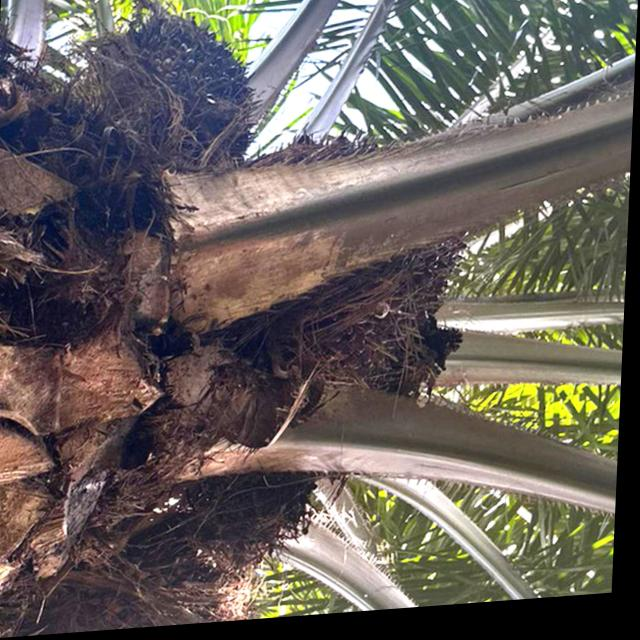ripe: (259, 234, 472, 407)
